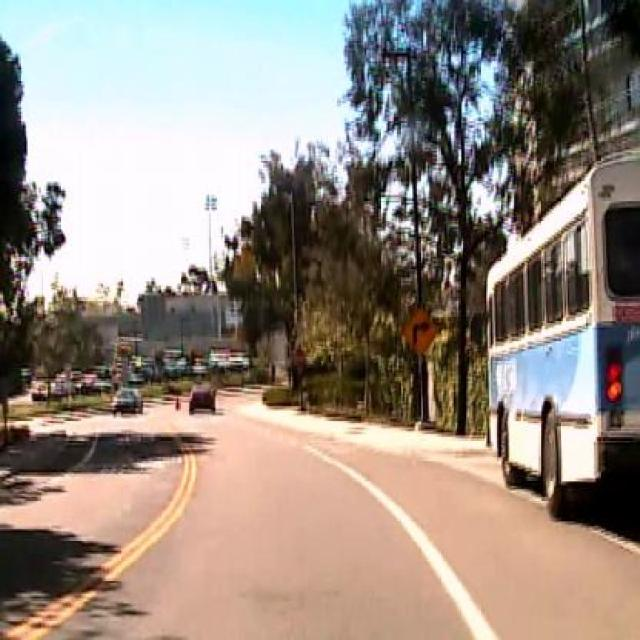turnRight: (403, 303, 440, 357)
